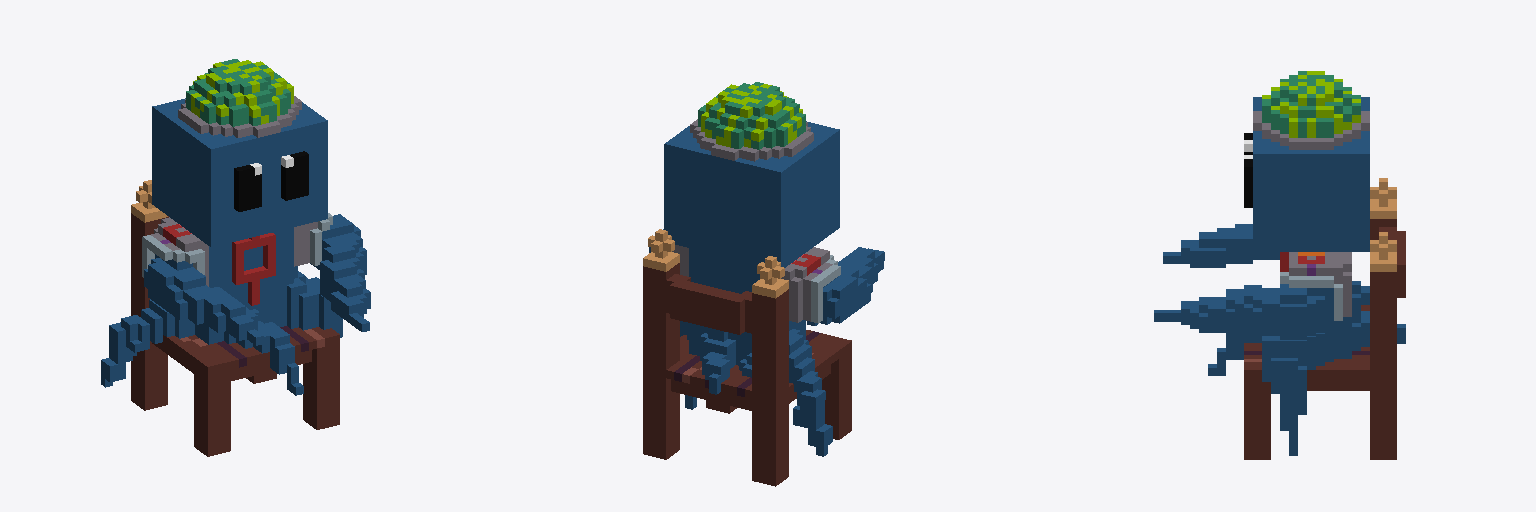
3 renders of one model, left to right at view 1: azimuth 30°, elevation 25°; view 2: azimuth 150°, elevation 25°; view 3: azimuth 270°, elevation 25°, orthographic.
Bounding box in the file's own units: 27 × 42 × 28.
1 materials, 1 textured.